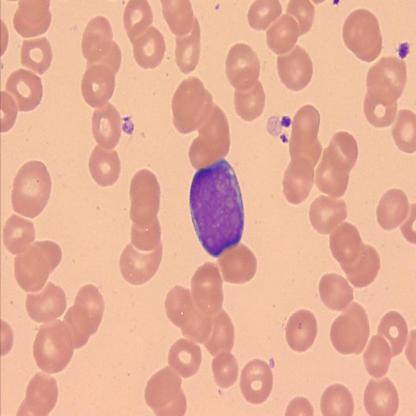Blast: (188, 156, 247, 259)
